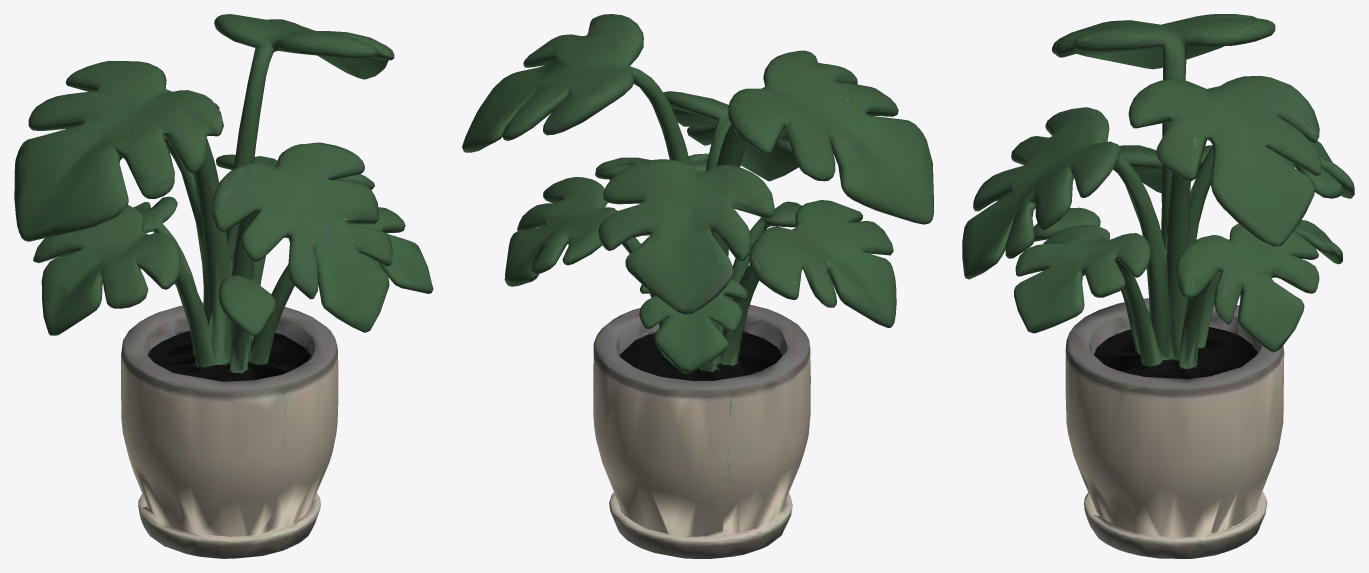
File: plant.glb
The picture shows the model from 3 angles, left to right: view 1: azimuth 30°, elevation 25°; view 2: azimuth 150°, elevation 25°; view 3: azimuth 270°, elevation 25°; orthographic projection.
Visible parts, largest first — view 1: geometry_0; view 2: geometry_0; view 3: geometry_0.
Boxes of the visible parts, bbox=[...] form: geometry_0: bbox=[14, 14, 433, 558]; geometry_0: bbox=[462, 14, 933, 558]; geometry_0: bbox=[962, 14, 1354, 558].
Bounding box in the file's own units: 0.9011 × 1 × 0.742.
1 material, 1 textured.
